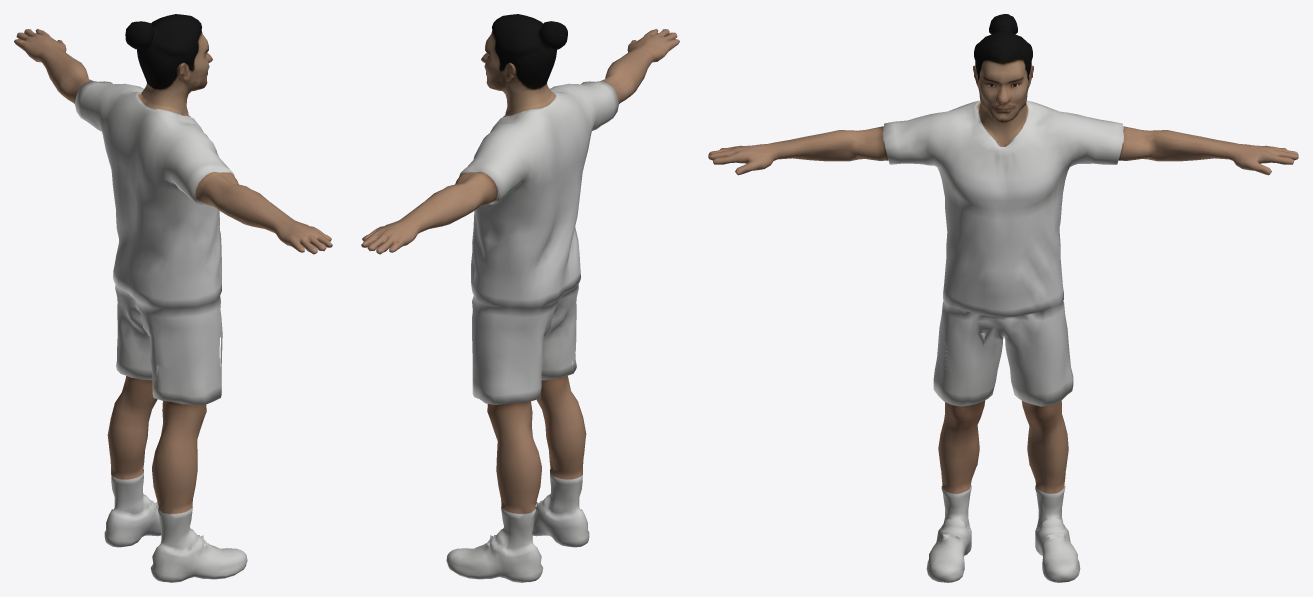
The model's file is spieler_f.glb.
The picture shows the model from 3 angles, left to right: view 1: azimuth 30°, elevation 25°; view 2: azimuth 150°, elevation 25°; view 3: azimuth 270°, elevation 25°; orthographic projection.
Visible parts, largest first — view 1: spieler; view 2: spieler; view 3: spieler.
Part boxes in pixels (<box>): spieler: <box>14,14,332,582</box>; spieler: <box>361,14,679,582</box>; spieler: <box>708,14,1298,582</box>.
Bounding box in the file's own units: 0.1738 × 0.998 × 0.998.
Materials: 1 (1 with a texture image).
